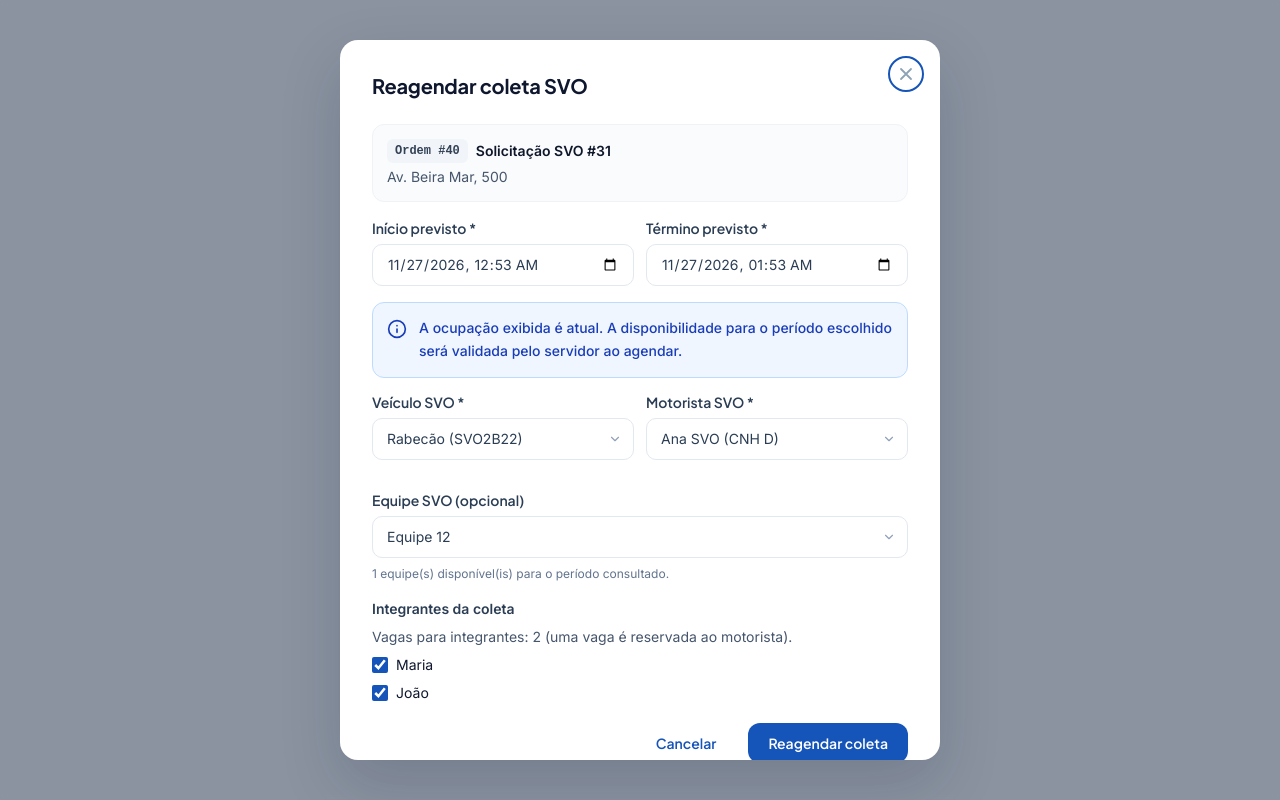
Test: ModalAgendarColetaSvo (SCRUM-172) › com o agendamento temporal (SCRUM-182) › bloqueia cabine menor sem retirar ninguém da composição
This screenshot has width=1280, height=800.
Check: the checkbox labelled "Maria" is checked, box [372,656,388,672]
Select "Cabine menor (SVO2B22)" in the dropdown labelled "Veículo SVO *" at (503, 438), box [372,418,634,460]
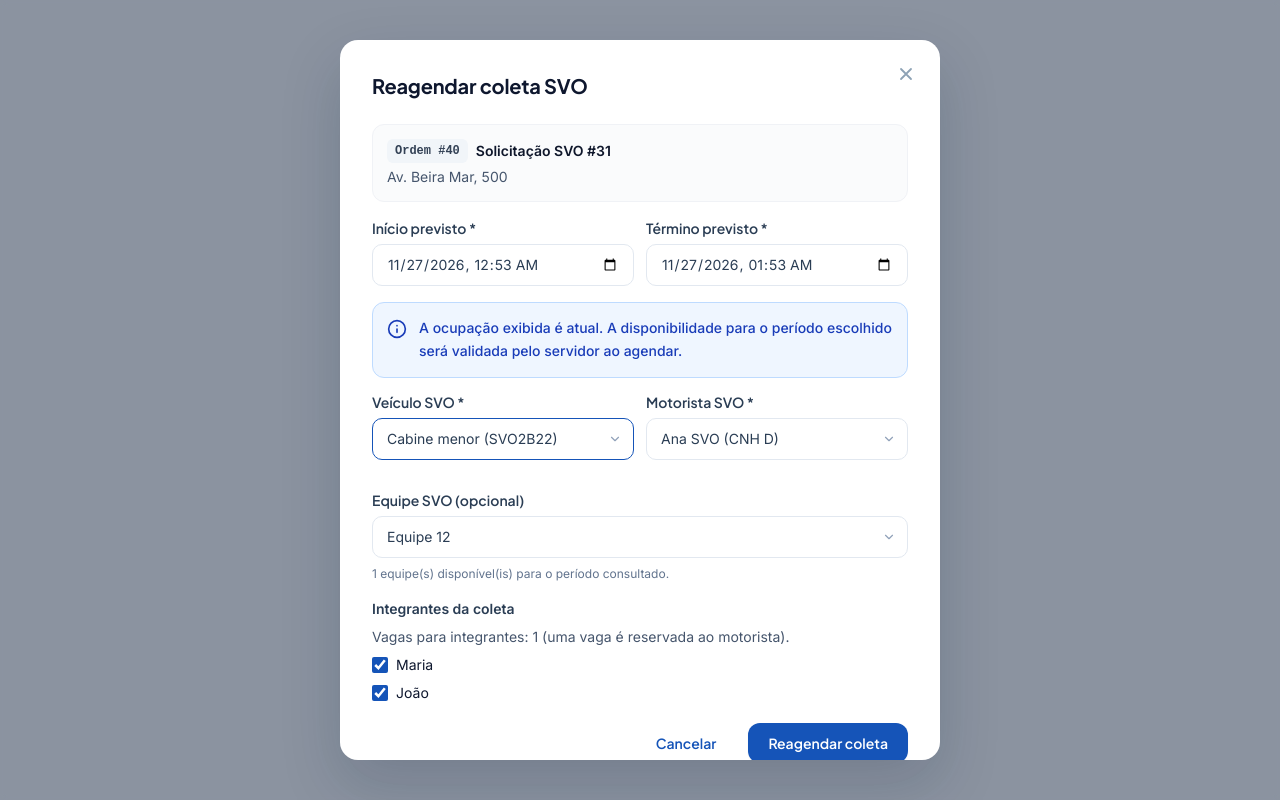
Click the button "Reagendar coleta".
click(828, 742)  # box [748,722,908,762]
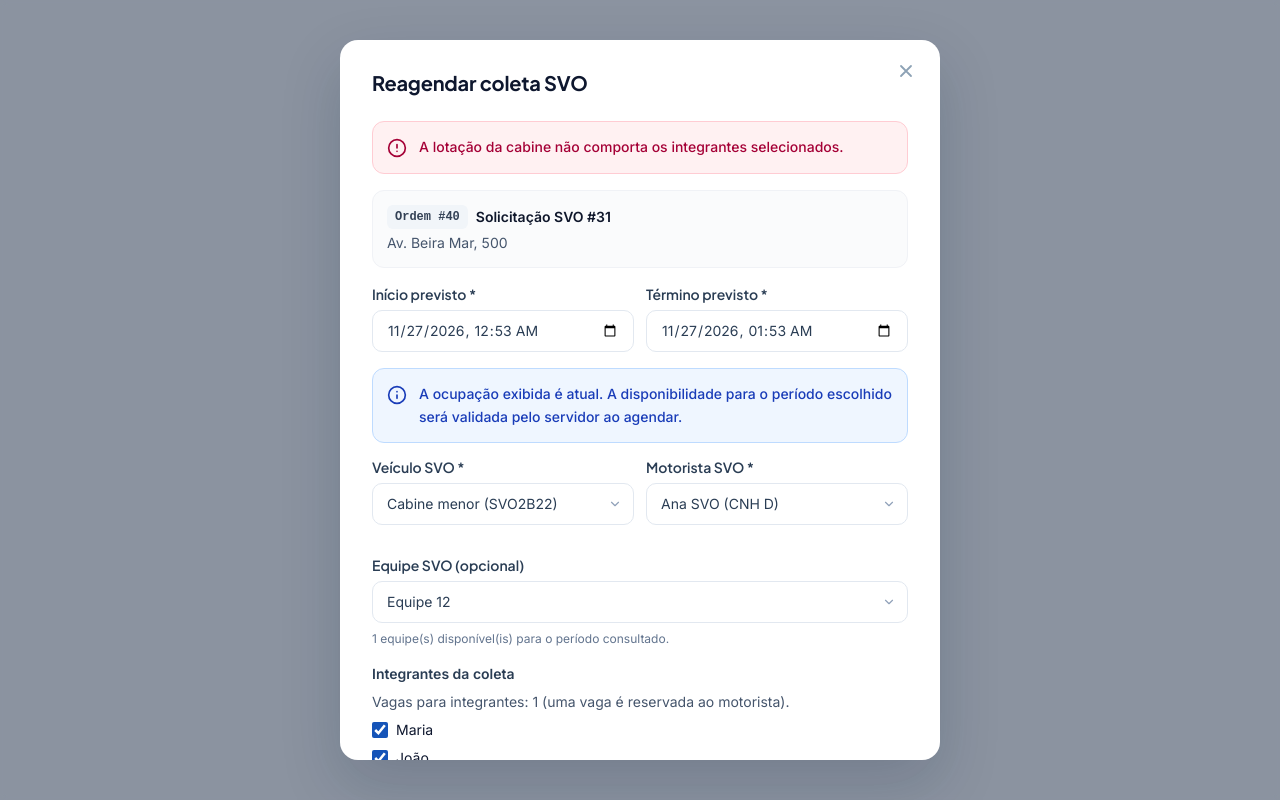
Check: the checkbox labelled "Maria" is checked, box [372,722,388,738]
Check: the text "A lotação da cabine não comporta os integrantes selecionados." is shown, box [419,136,893,159]
